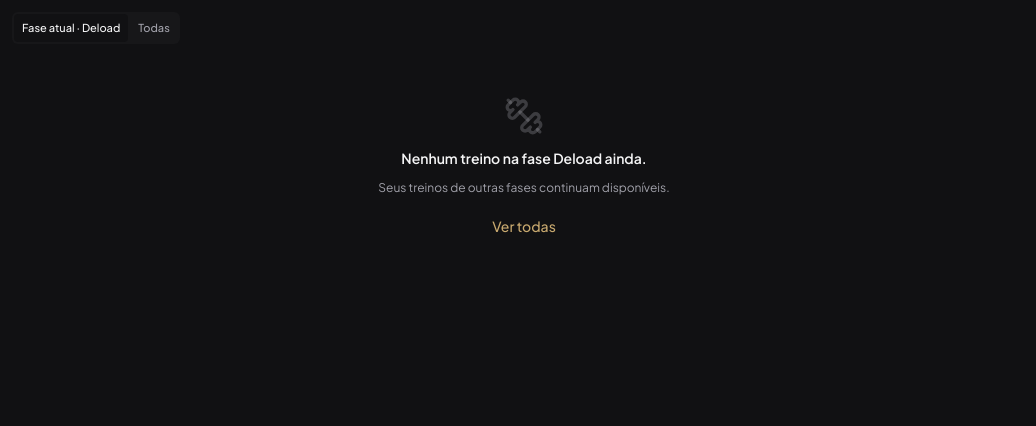
Test: WorkoutHistory por fase › fase vazia oferece ver todas
The image size is (1036, 426).
Check: the text "Nenhum treino na fase Deload ainda." is shown, box [401,149,647,167]
Click the button "Ver todas": point(524, 226) [480,208,568,244]
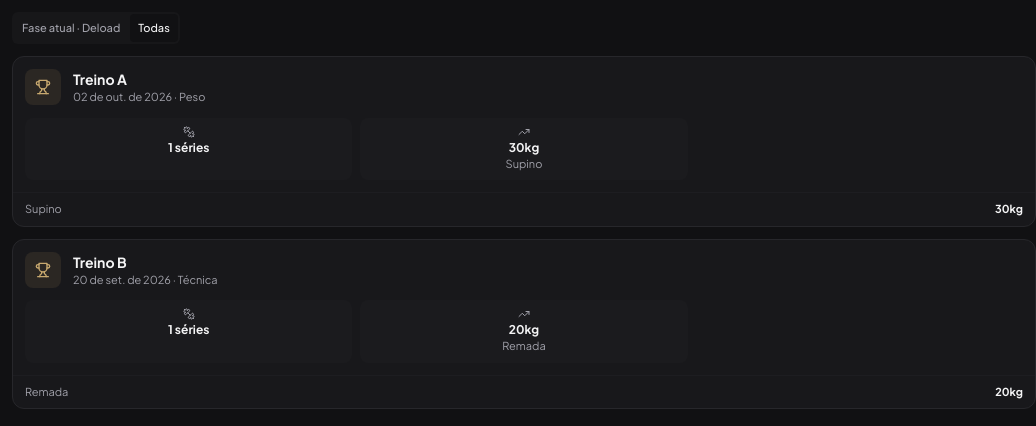
Check: the text "Treino A" is shown, box [73,69,127,89]
